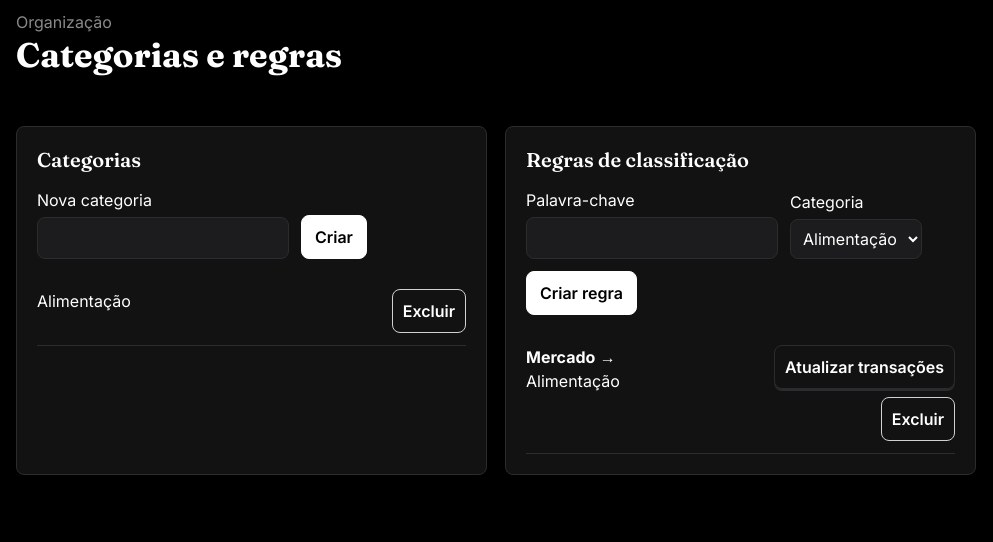
Test: CategoriesPage › keeps the rule visible and shows the Portuguese API error when applying fails
Click the button with aria-label "Atualizar transações para Mercado" at (864, 367), box x1=774 y1=345 x2=955 y2=389
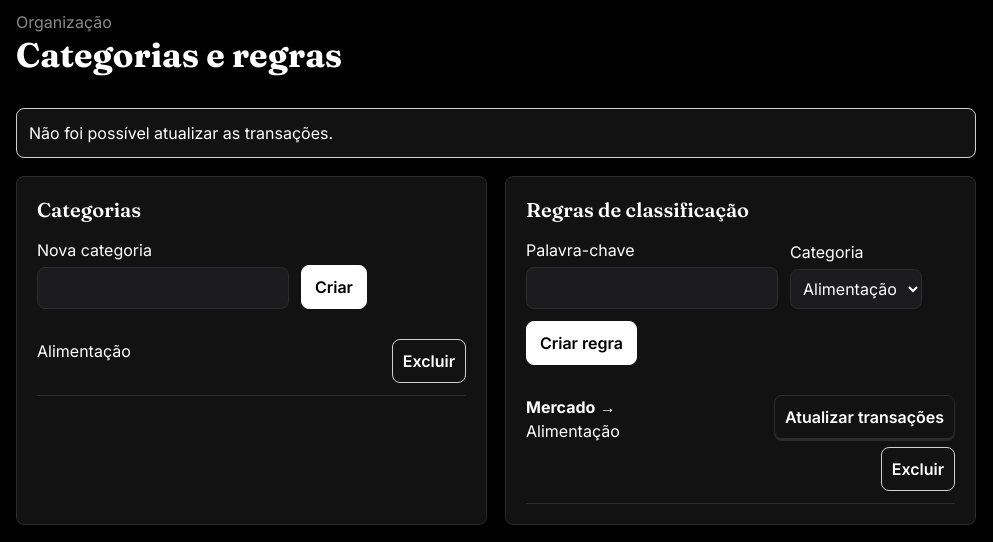
Expected: the text "Mercado" is shown, x1=526 y1=397 x2=595 y2=417
Result: the message reads "Não foi possível atualizar as transações." at x1=29 y1=123 x2=333 y2=143
